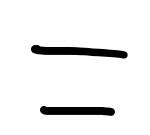eqv: (31, 44, 128, 116)
